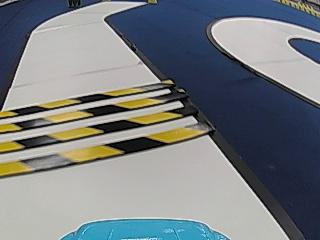bump: (0, 80, 212, 178)
